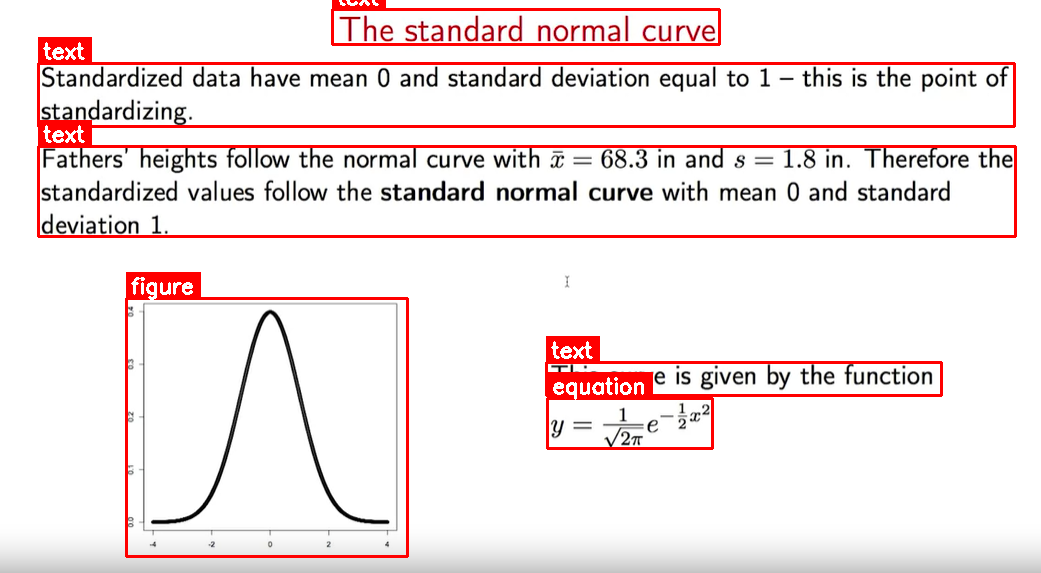equation: (547, 398, 712, 448)
figure: (126, 298, 407, 556)
text: (38, 146, 1015, 236), (38, 63, 1014, 126), (332, 9, 719, 44), (546, 362, 941, 395)
